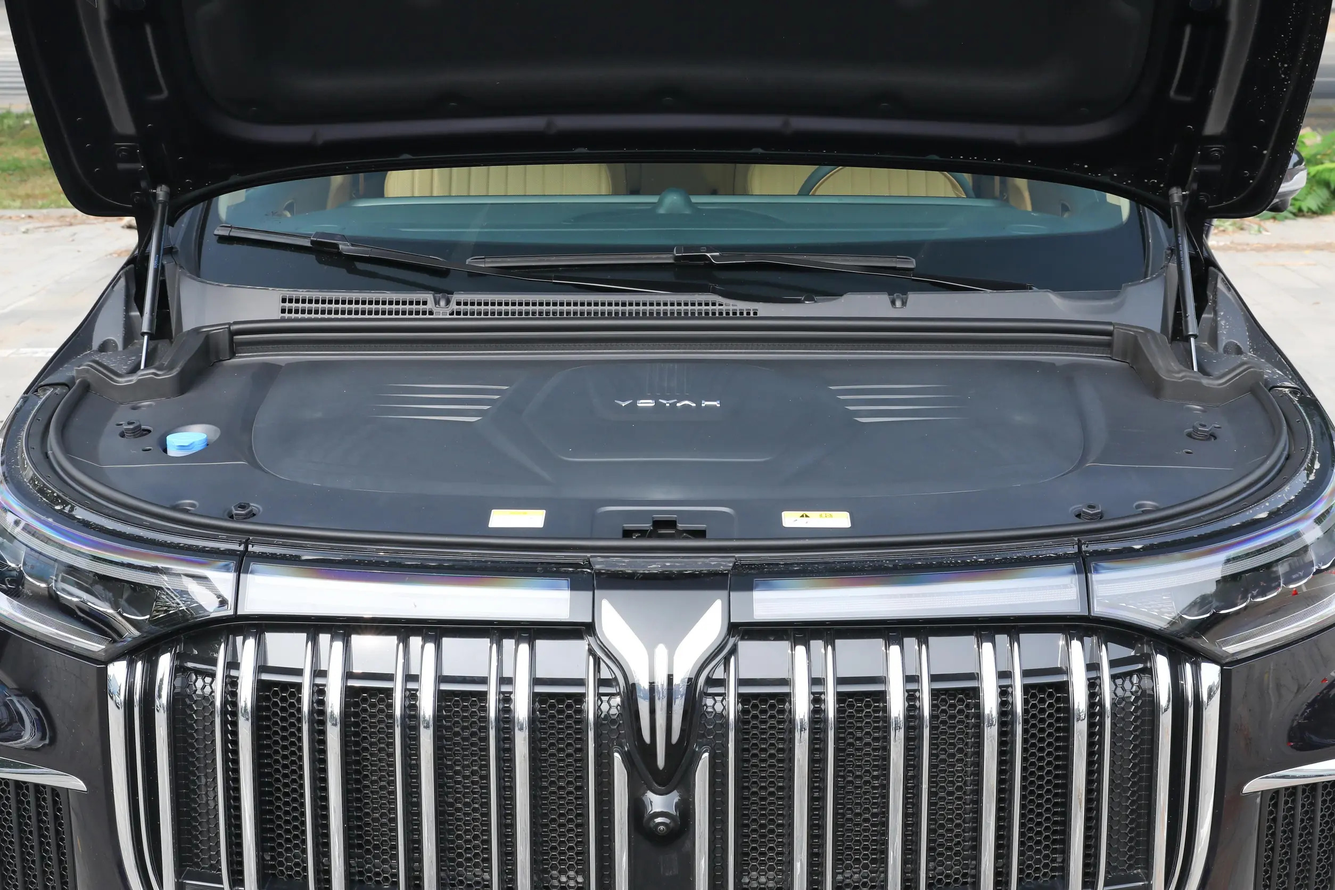VOYAH: (601, 599, 721, 769)
